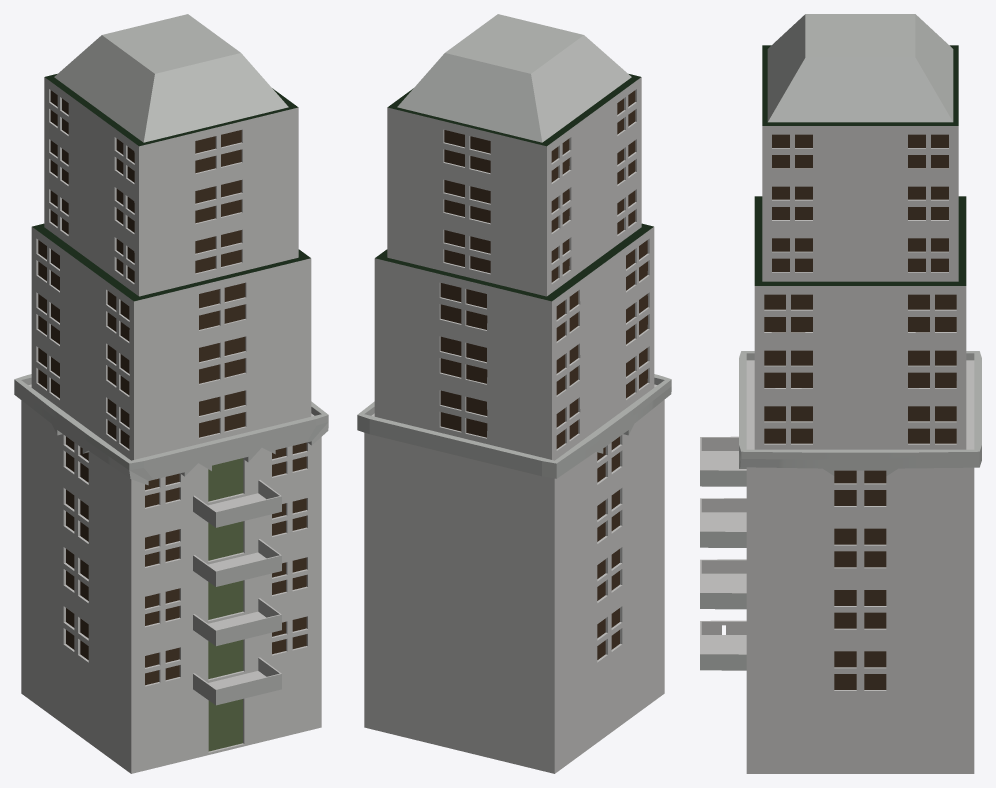
Rendered from building_2.glb.
3 views of the same model, side by side, from view 1: azimuth 30°, elevation 25°; view 2: azimuth 150°, elevation 25°; view 3: azimuth 270°, elevation 25° (orthographic). The views are drawn at different scales.
Parts seen in each view (by area): view 1: Apartment_3; view 2: Apartment_3; view 3: Apartment_3.
Boxes of the visible parts, x1,y1,x2,y2 form: Apartment_3: (14,14,328,773); Apartment_3: (357,14,671,773); Apartment_3: (700,14,981,773).
Bounding box in the file's own units: 0.8067 × 2.53 × 0.9361.
1 material, 1 textured.
